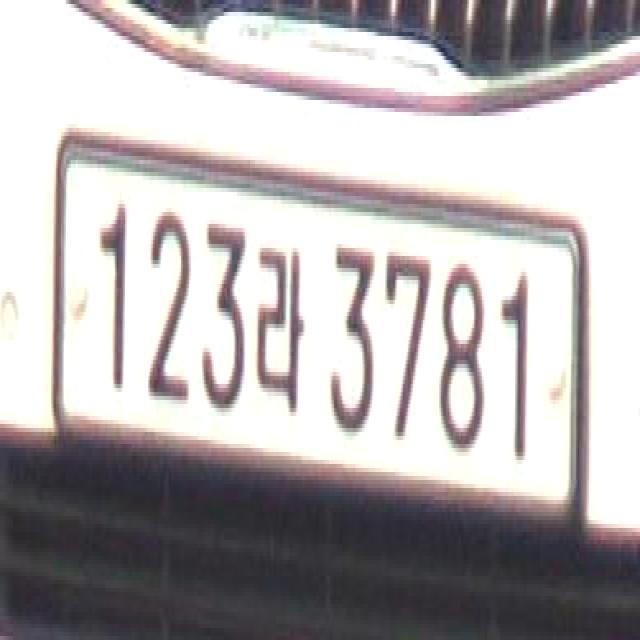illegal_plate: (50, 128, 585, 535)
